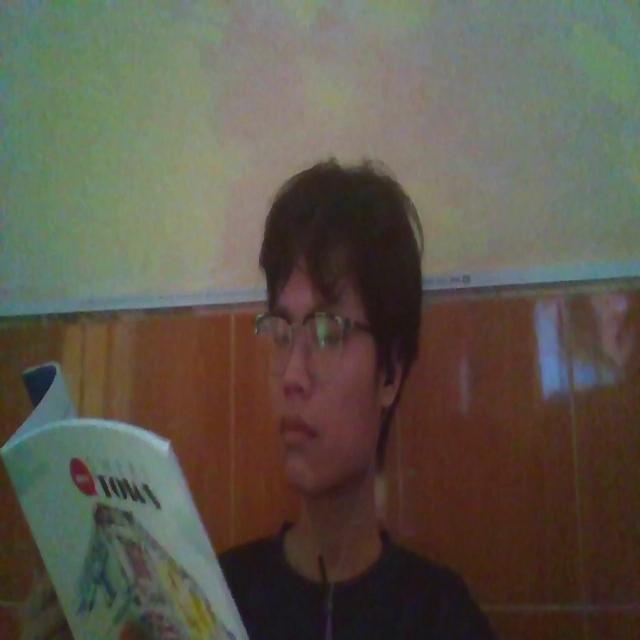book: (0, 352, 258, 640)
student: (201, 148, 493, 640)
